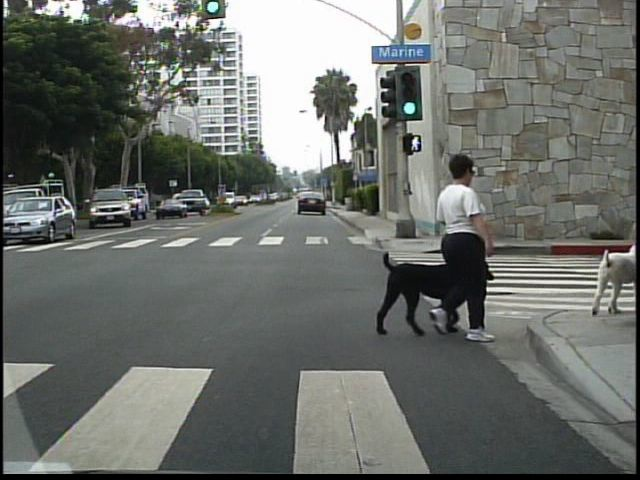person: (423, 146, 495, 346)
